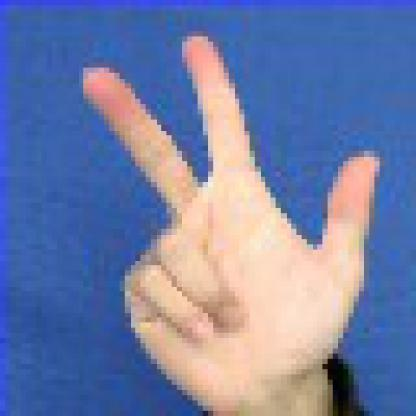eight: (63, 10, 396, 411)
